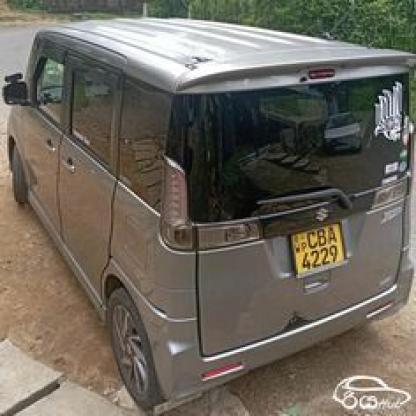number plate: (292, 222, 343, 272)
van back: (0, 7, 416, 416)
